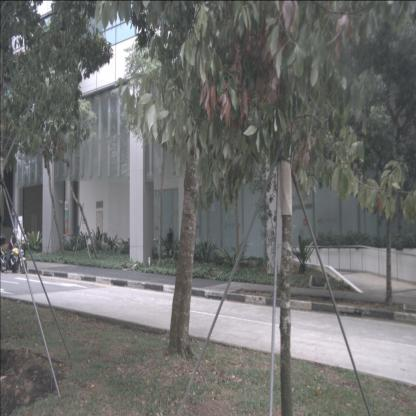human-pedestrian-adult: (21, 228, 27, 267), (166, 227, 172, 258), (96, 227, 100, 250)
vehicle-motorcycle: (0, 228, 27, 274)
